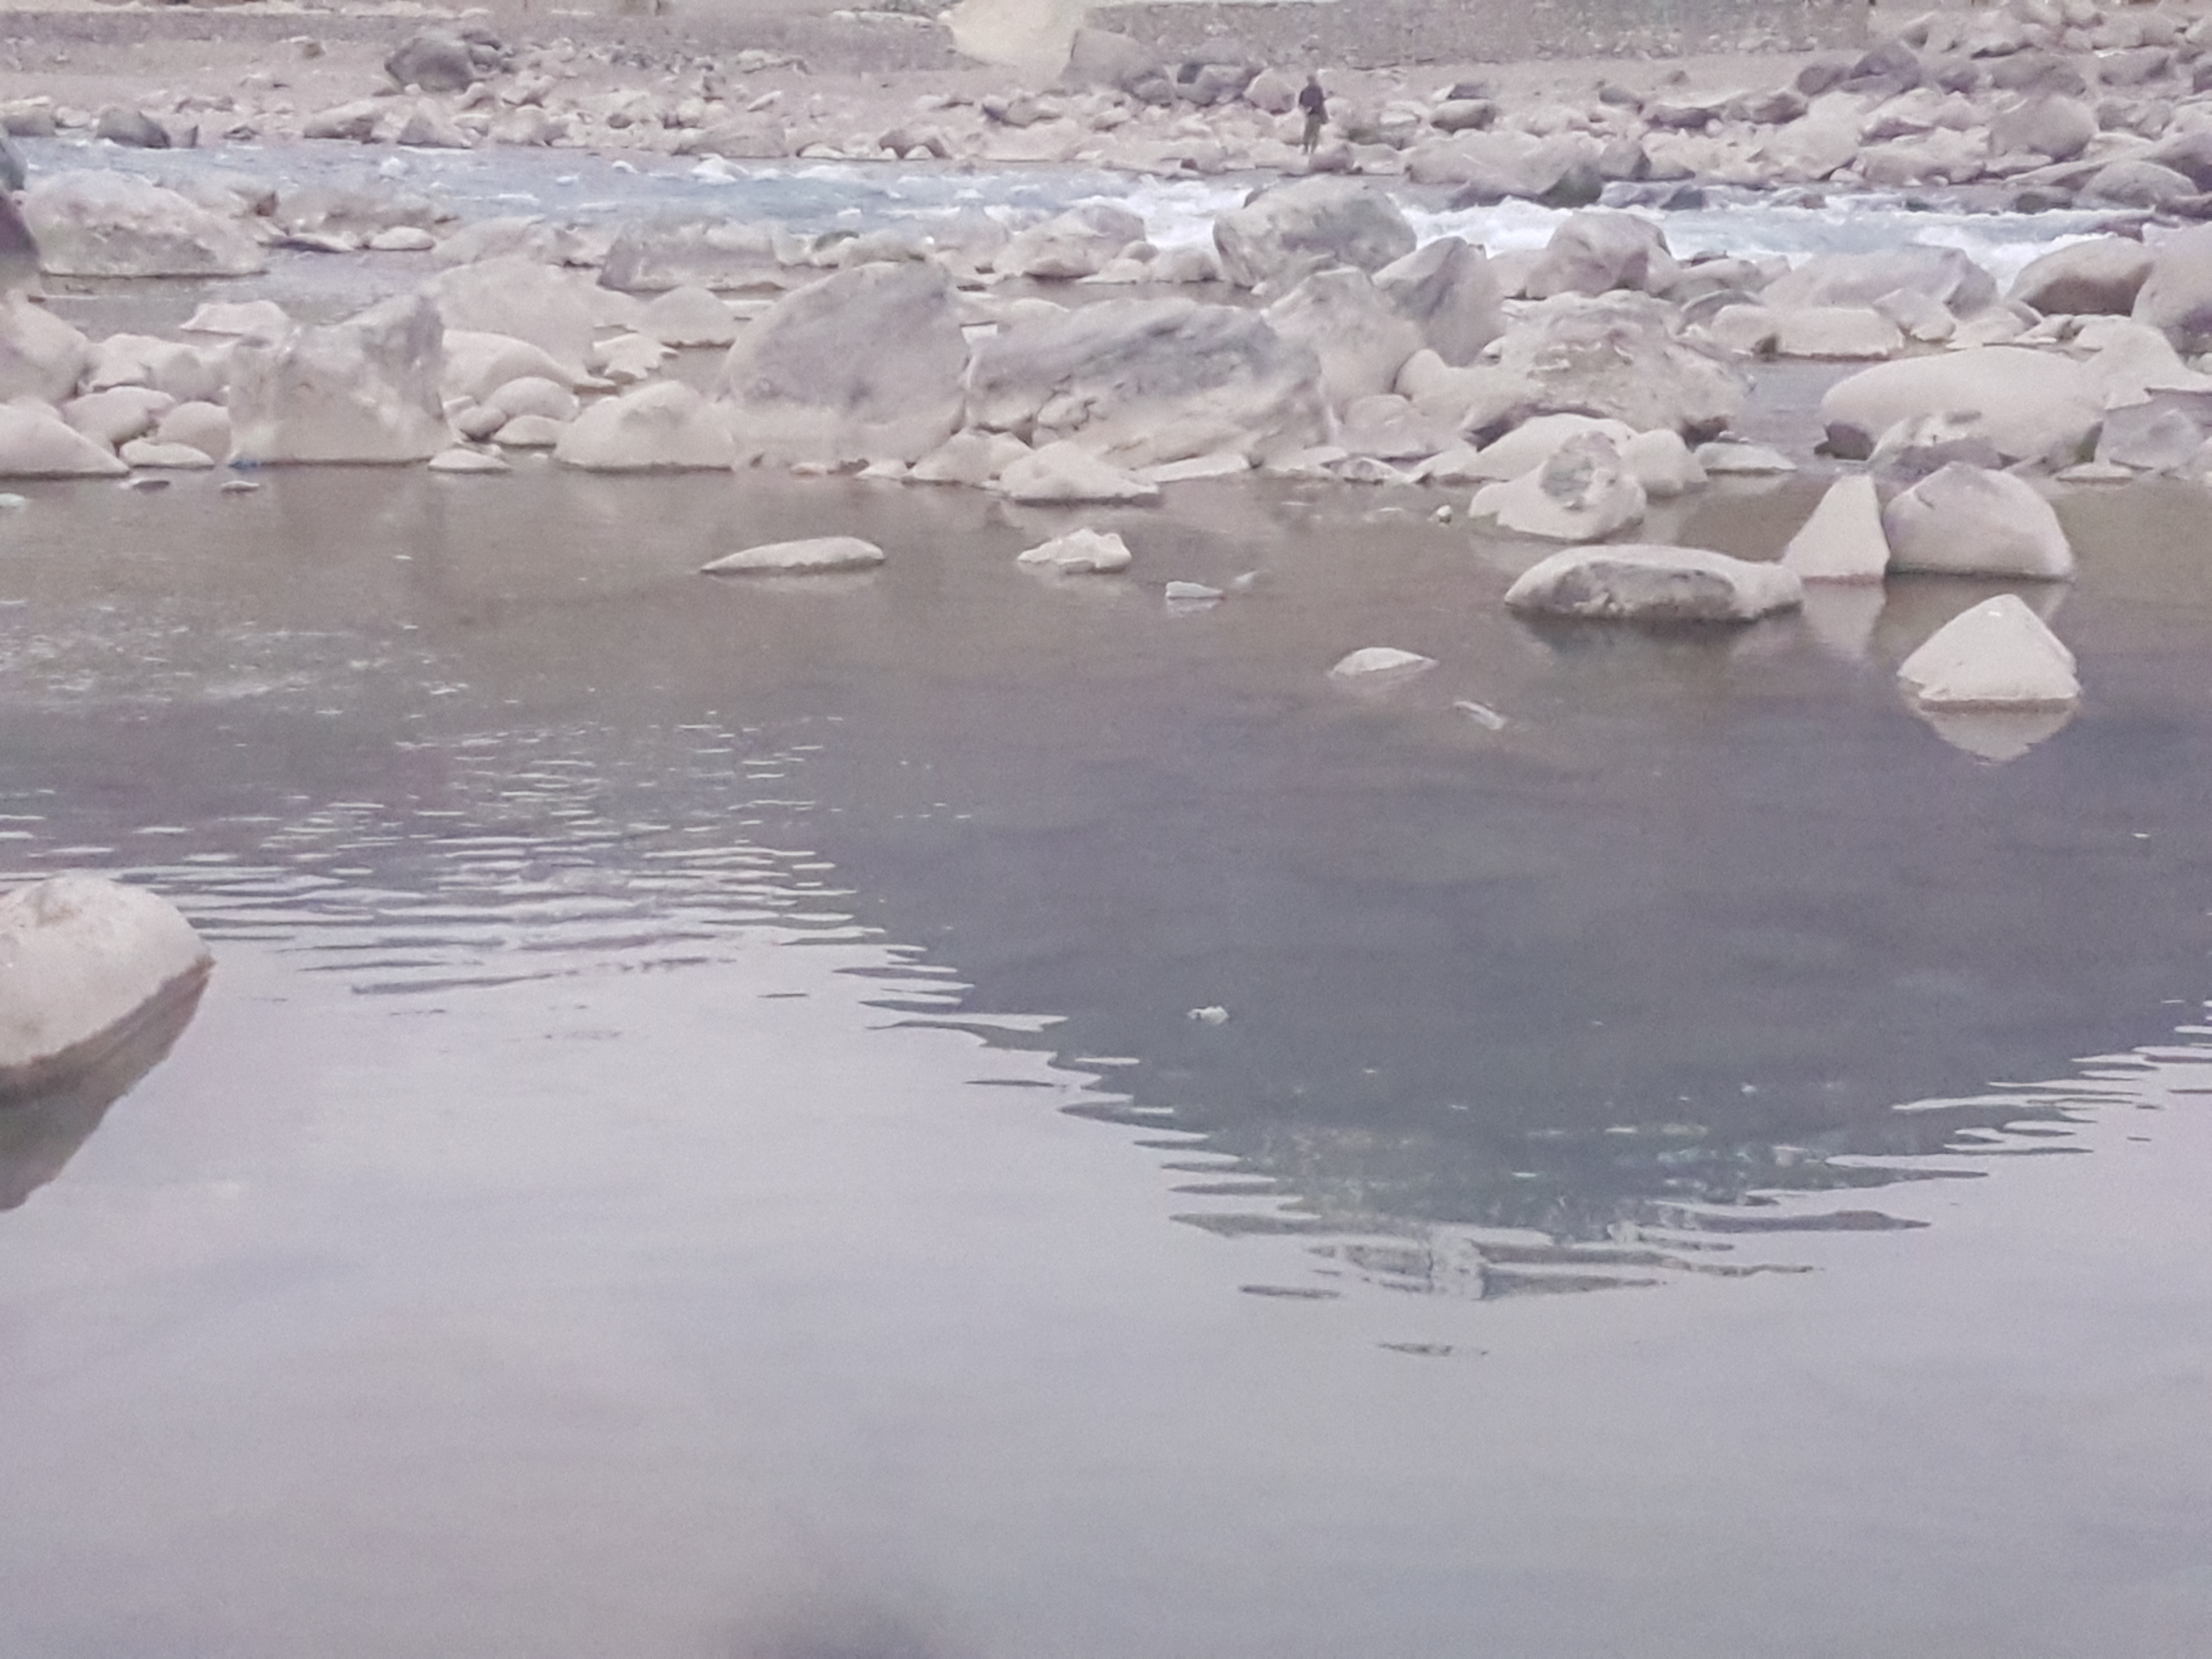Plastic Bottle: (1165, 580, 1223, 598), (1190, 1006, 1228, 1021), (228, 455, 263, 471)
